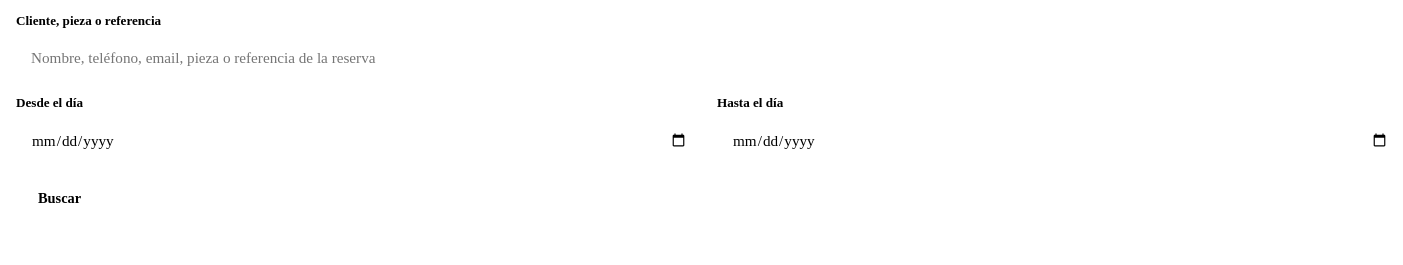
Test case: BuscadorReservas — buscar › sin nada escrito no busca, y pide escribir algo
The image size is (1403, 265).
Click the button "Buscar". click: (60, 198)
box: [16,179,103,218]
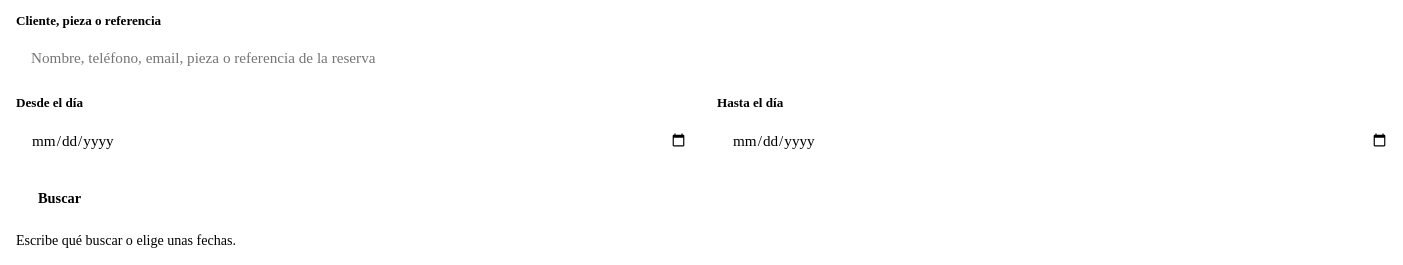
expect the message reads "Escribe qué buscar o elige unas fechas.": met, box [16,232,236,248]
